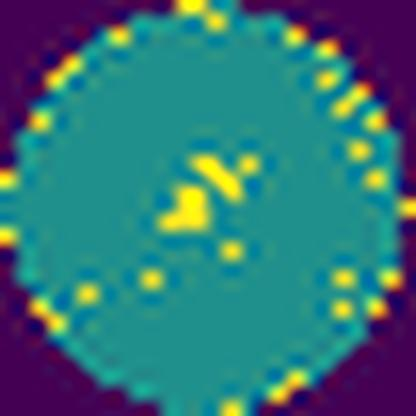Center: (151, 152, 249, 240)
